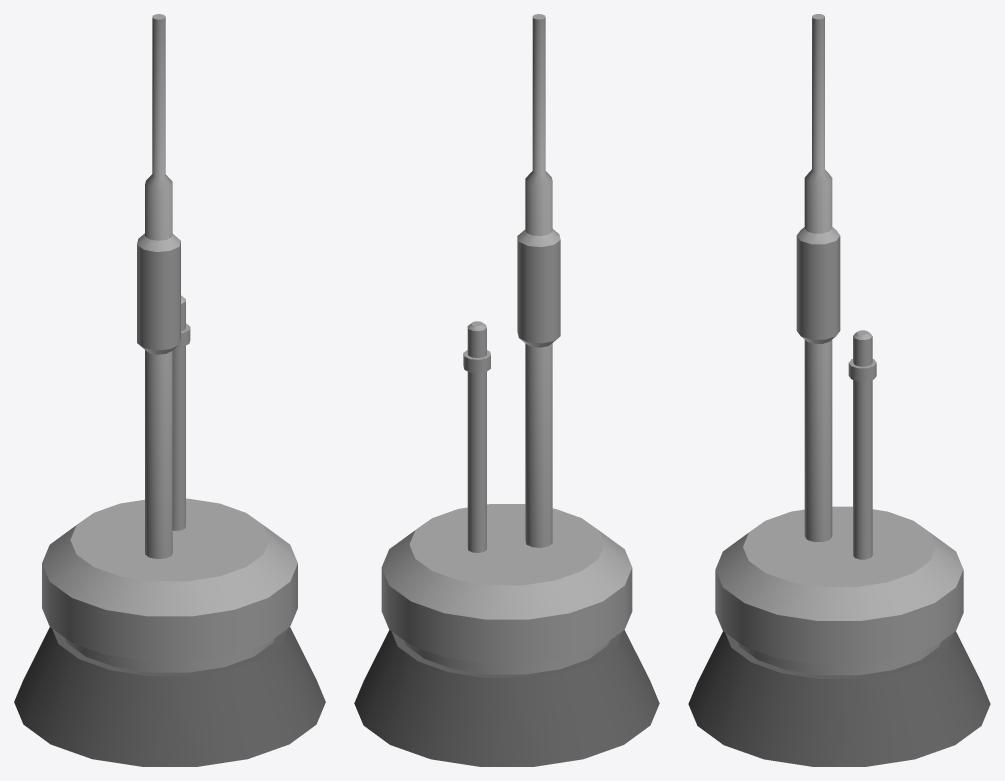
Rendered from roof_antenna.glb.
The picture shows the model from 3 angles, left to right: view 1: azimuth 30°, elevation 25°; view 2: azimuth 150°, elevation 25°; view 3: azimuth 270°, elevation 25°; orthographic projection. The views are drawn at different scales.
Parts seen in each view (by area): view 1: Roof_Antenna; view 2: Roof_Antenna; view 3: Roof_Antenna.
Boxes of the visible parts, left/top/right/bottom form: Roof_Antenna: left=14, top=14, right=325, bottom=766; Roof_Antenna: left=354, top=14, right=659, bottom=766; Roof_Antenna: left=688, top=14, right=990, bottom=766.
Bounding box in the file's own units: 1.41 × 3.54 × 1.43.
1 material, 1 textured.
